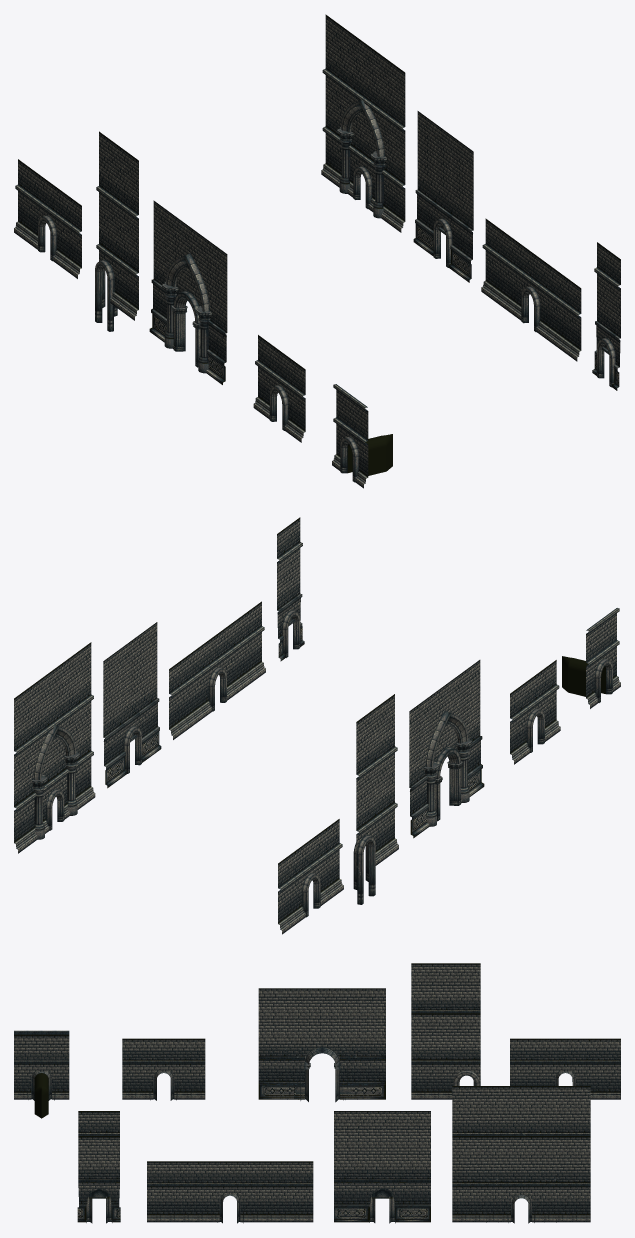
The model's file is EnvMdrMD_Daiseidou_B_RoomEnter_1F_600W.FBX.
3 views of the same model, one above another, from view 1: azimuth 30°, elevation 25°; view 2: azimuth 150°, elevation 25°; view 3: azimuth 270°, elevation 25° (orthographic). The views are drawn at different scales.
Parts seen in each view (by area): view 1: EnvMdrMD_Daiseidou_B_RoomEnter_1F_B, EnvMdrMD_Daiseidou_B_RoomEnter_A_900W900H, EnvMdrMD_Daiseidou_B_RoomEnter_Secret_A, EnvMdrMD_Daiseidou_B_RoomEnter_1F_1200W, EnvMdrMD_Daiseidou_B_RoomEnter_1F_C, EnvMdrMD_Daiseidou_B_RoomEnter_1F_A, EnvMdrMD_Daiseidou_B_RoomEnter_Secret_D, EnvMdrMD_Daiseidou_B_RoomEnter_1F_600W, EnvMdrMD_Daiseidou_B_RoomEnter_Secret_C; view 2: EnvMdrMD_Daiseidou_B_RoomEnter_1F_B, EnvMdrMD_Daiseidou_B_RoomEnter_A_900W900H, EnvMdrMD_Daiseidou_B_RoomEnter_Secret_A, EnvMdrMD_Daiseidou_B_RoomEnter_1F_1200W, EnvMdrMD_Daiseidou_B_RoomEnter_1F_C, EnvMdrMD_Daiseidou_B_RoomEnter_1F_A, EnvMdrMD_Daiseidou_B_RoomEnter_Secret_D, EnvMdrMD_Daiseidou_B_RoomEnter_1F_600W, EnvMdrMD_Daiseidou_B_RoomEnter_Secret_C; view 3: EnvMdrMD_Daiseidou_B_RoomEnter_1F_B, EnvMdrMD_Daiseidou_B_RoomEnter_A_900W900H, EnvMdrMD_Daiseidou_B_RoomEnter_Secret_A, EnvMdrMD_Daiseidou_B_RoomEnter_1F_1200W, EnvMdrMD_Daiseidou_B_RoomEnter_1F_C, EnvMdrMD_Daiseidou_B_RoomEnter_1F_A, EnvMdrMD_Daiseidou_B_RoomEnter_1F_600W, EnvMdrMD_Daiseidou_B_RoomEnter_Secret_C, EnvMdrMD_Daiseidou_B_RoomEnter_Secret_D.
Part boxes in pixels (x1,y1,x2,y2): EnvMdrMD_Daiseidou_B_RoomEnter_1F_B: (321, 14, 405, 232); EnvMdrMD_Daiseidou_B_RoomEnter_A_900W900H: (149, 200, 227, 384); EnvMdrMD_Daiseidou_B_RoomEnter_Secret_A: (413, 111, 473, 282); EnvMdrMD_Daiseidou_B_RoomEnter_1F_1200W: (481, 218, 581, 361); EnvMdrMD_Daiseidou_B_RoomEnter_1F_C: (95, 131, 138, 331); EnvMdrMD_Daiseidou_B_RoomEnter_1F_A: (14, 159, 81, 278); EnvMdrMD_Daiseidou_B_RoomEnter_Secret_D: (332, 384, 392, 488); EnvMdrMD_Daiseidou_B_RoomEnter_1F_600W: (253, 335, 305, 442); EnvMdrMD_Daiseidou_B_RoomEnter_Secret_C: (592, 242, 620, 390); EnvMdrMD_Daiseidou_B_RoomEnter_1F_B: (14, 642, 95, 853); EnvMdrMD_Daiseidou_B_RoomEnter_A_900W900H: (409, 660, 484, 838); EnvMdrMD_Daiseidou_B_RoomEnter_Secret_A: (103, 622, 161, 788); EnvMdrMD_Daiseidou_B_RoomEnter_1F_1200W: (169, 601, 265, 739); EnvMdrMD_Daiseidou_B_RoomEnter_1F_C: (353, 694, 398, 904); EnvMdrMD_Daiseidou_B_RoomEnter_1F_A: (278, 819, 343, 934); EnvMdrMD_Daiseidou_B_RoomEnter_Secret_D: (562, 608, 620, 708); EnvMdrMD_Daiseidou_B_RoomEnter_1F_600W: (510, 660, 560, 764); EnvMdrMD_Daiseidou_B_RoomEnter_Secret_C: (277, 517, 304, 661); EnvMdrMD_Daiseidou_B_RoomEnter_1F_B: (452, 1086, 590, 1223); EnvMdrMD_Daiseidou_B_RoomEnter_A_900W900H: (258, 988, 385, 1102); EnvMdrMD_Daiseidou_B_RoomEnter_Secret_A: (334, 1111, 430, 1223); EnvMdrMD_Daiseidou_B_RoomEnter_1F_1200W: (147, 1161, 313, 1223); EnvMdrMD_Daiseidou_B_RoomEnter_1F_C: (411, 963, 480, 1099); EnvMdrMD_Daiseidou_B_RoomEnter_1F_A: (510, 1038, 620, 1099); EnvMdrMD_Daiseidou_B_RoomEnter_1F_600W: (122, 1038, 205, 1100); EnvMdrMD_Daiseidou_B_RoomEnter_Secret_C: (77, 1111, 120, 1223); EnvMdrMD_Daiseidou_B_RoomEnter_Secret_D: (14, 1030, 69, 1118).
Bounding box in the file's own units: 2190 × 1300 × 4381.
2 materials, 2 textured.
